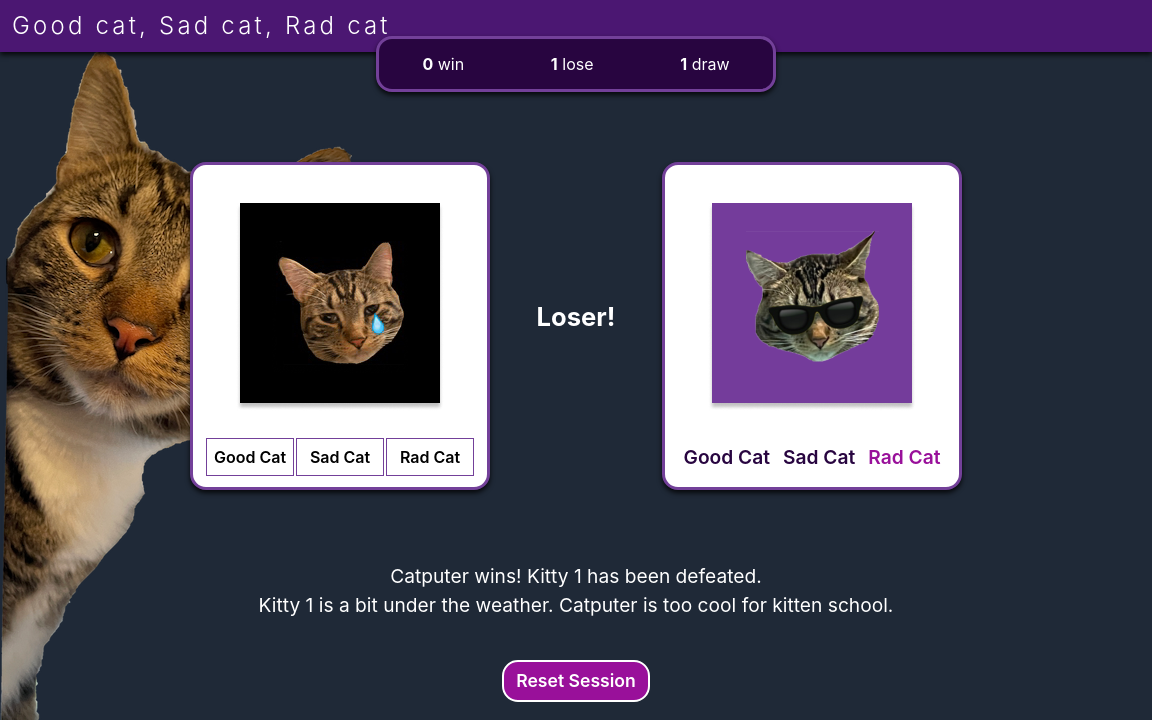
Testing Good cat, Sad cat, Rad cat Game › Test Rad cat action button
Click the button with test id "rad": (430,457) x1=386 y1=438 x2=474 y2=476
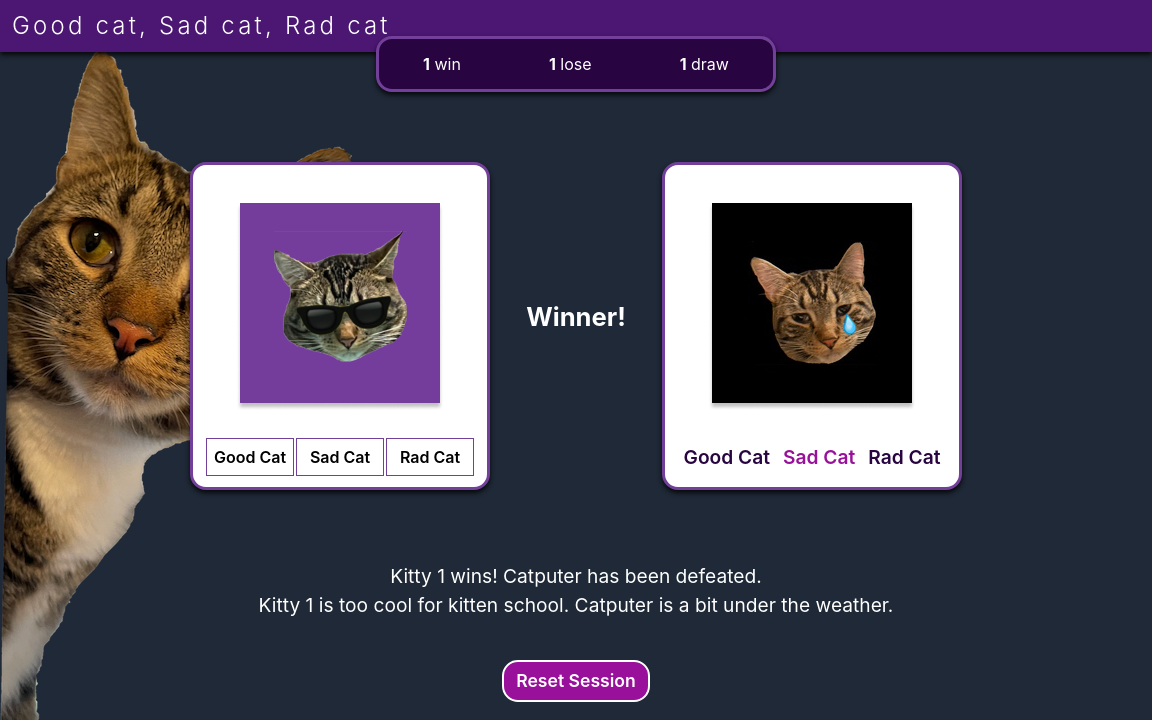
Check: the picture with test id "p1-rad-img" is shown, box x1=236 y1=203 x2=444 y2=411
Check: the text "Kitty 1 is too cool for kitten school" is shown, box x1=226 y1=591 x2=926 y2=620
